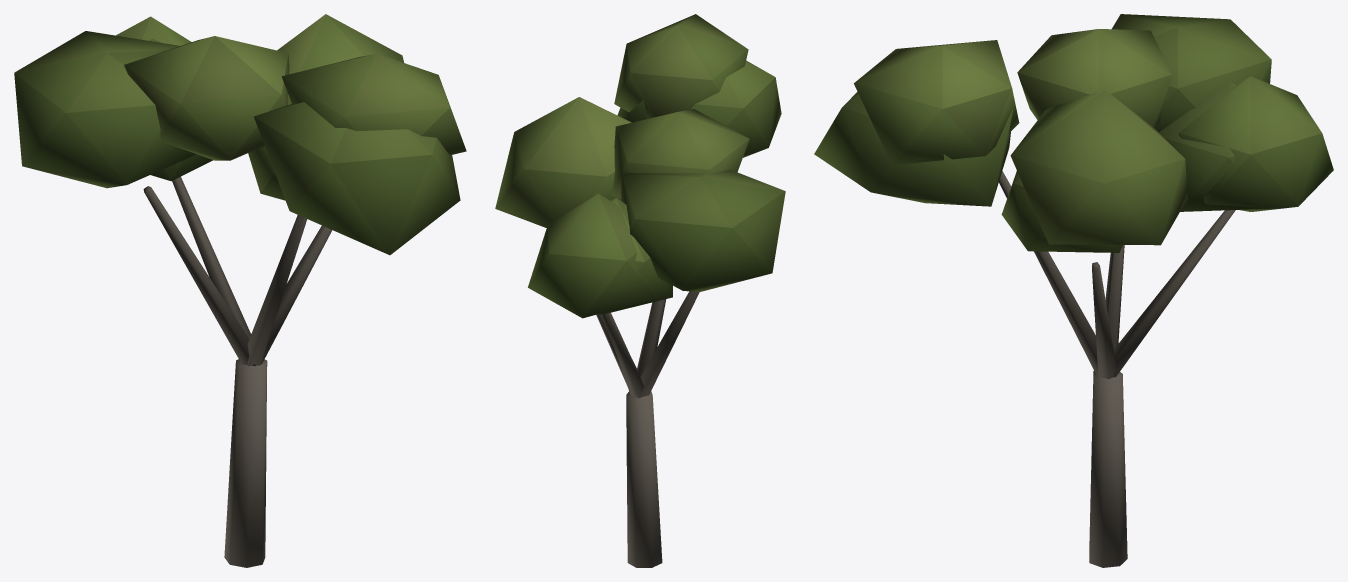
File: env_cottonwood.glb
3 views of the same model, side by side, from view 1: azimuth 30°, elevation 25°; view 2: azimuth 150°, elevation 25°; view 3: azimuth 270°, elevation 25° (orthographic). The views are drawn at different scales.
Parts seen in each view (by area): view 1: env_cottonwood; view 2: env_cottonwood; view 3: env_cottonwood.
Boxes of the visible parts, x1=… form: env_cottonwood: x1=14, y1=14, x2=466, y2=567; env_cottonwood: x1=495, y1=14, x2=785, y2=567; env_cottonwood: x1=814, y1=14, x2=1333, y2=567.
Size of the model in its own units: 10.32 by 16.06 by 14.13.
